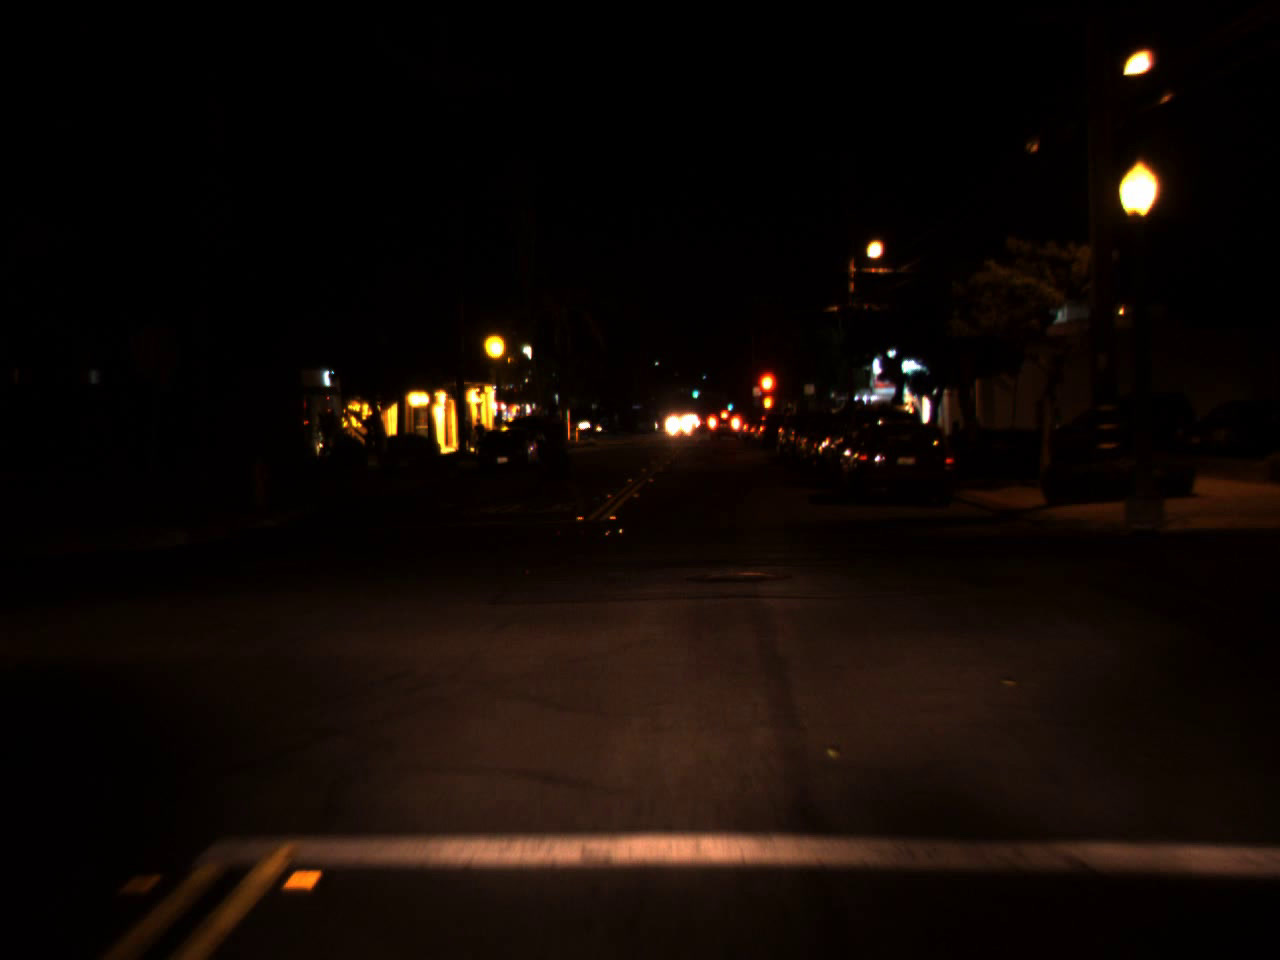go: (724, 394, 733, 412), (689, 383, 698, 398)
stop: (756, 369, 780, 417)
